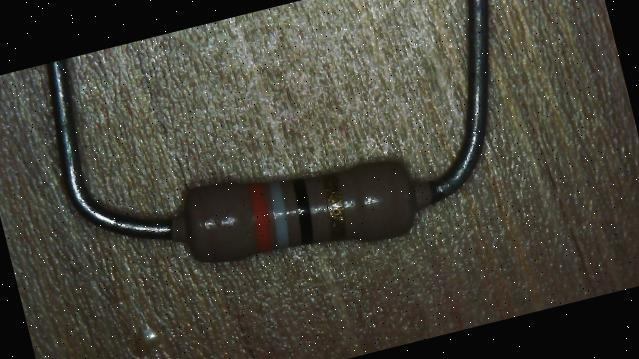black: (286, 176, 319, 245)
gold: (315, 172, 350, 240)
orange: (240, 180, 278, 252)
resistor: (151, 108, 438, 304)
white: (262, 180, 294, 248)
